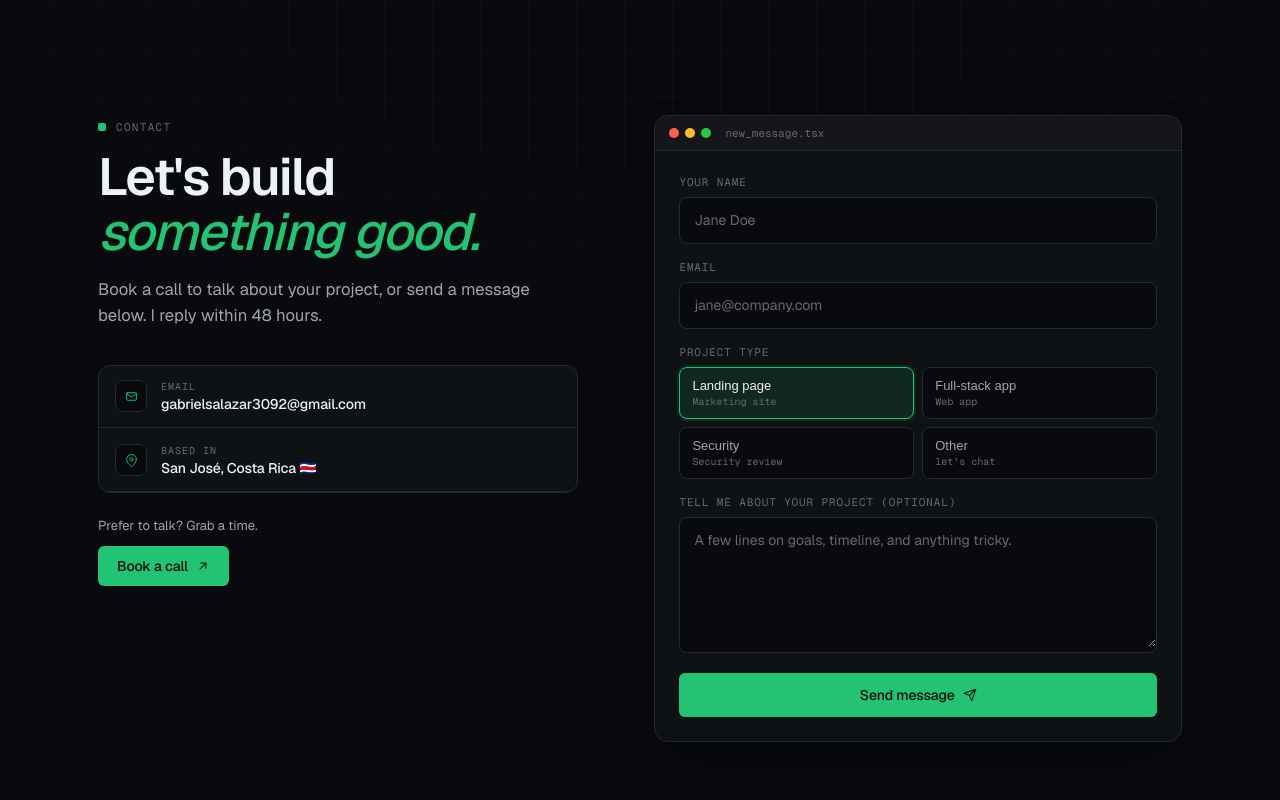
Test: Contact section › shows validation errors for empty required fields
Click the button "Send message" at {"x": 918, "y": 695}, box [679,673,1157,717]
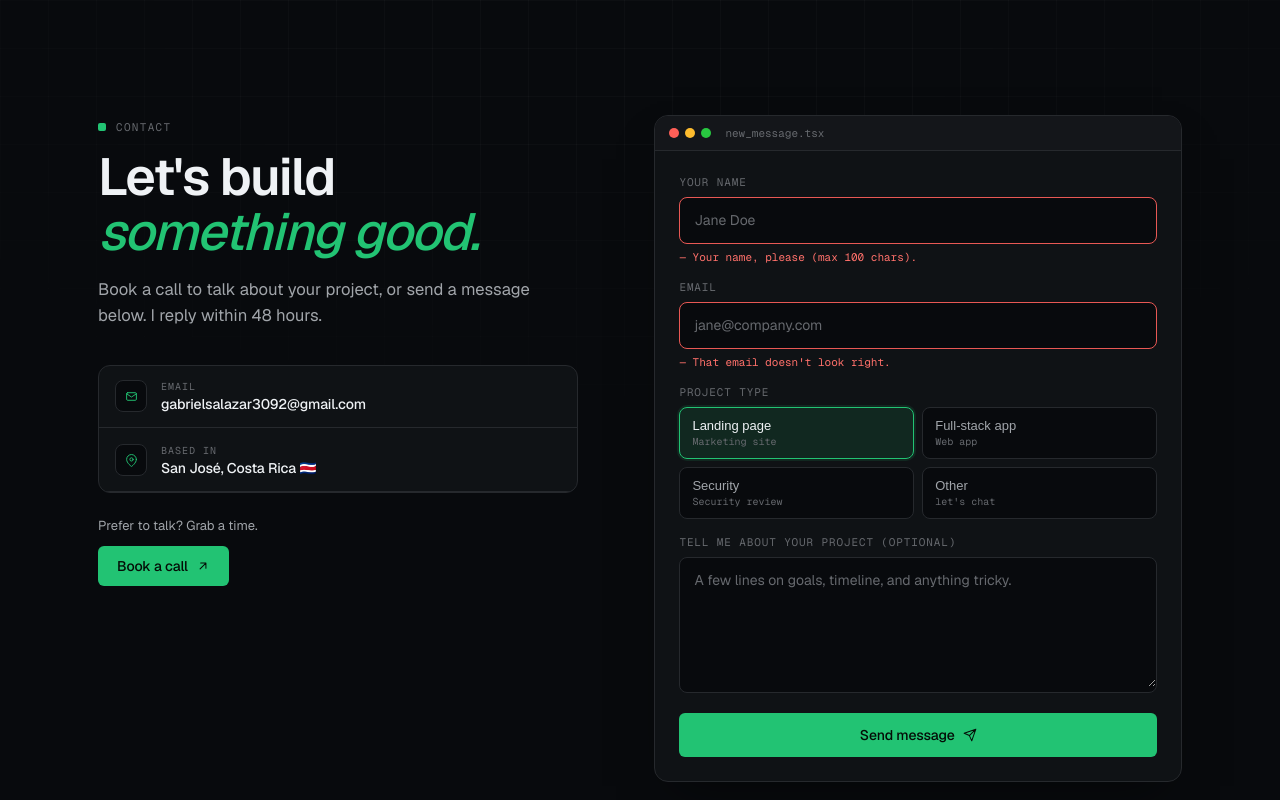
Expected: the text "— Your name, please (max 100 chars)." is shown, [679,250,917,264]
Expected: the text "— That email doesn't look right." is shown, [679,355,891,369]
